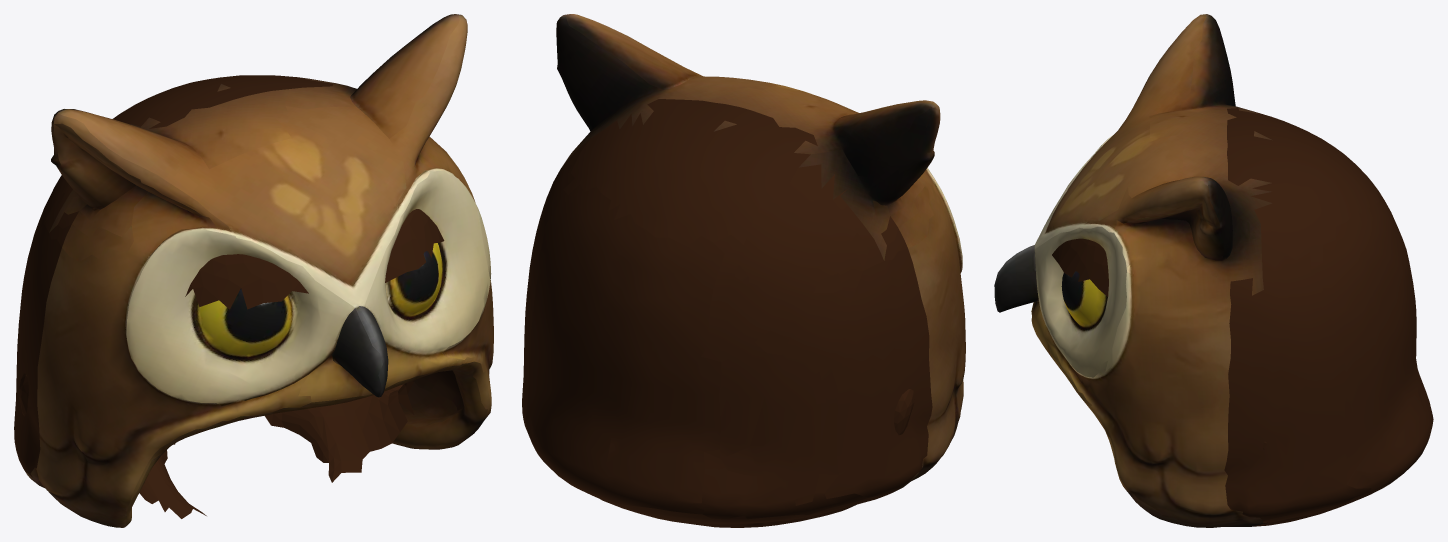
The model's file is owl.glb.
The picture shows the model from 3 angles, left to right: view 1: azimuth 30°, elevation 25°; view 2: azimuth 150°, elevation 25°; view 3: azimuth 270°, elevation 25°; orthographic projection. The views are drawn at different scales.
Visible parts, largest first — view 1: geometry_0, HoodAnatomicalLining; view 2: geometry_0, HoodAnatomicalLining; view 3: geometry_0, HoodAnatomicalLining.
Part boxes in pixels (x1,y1,x2,y2): geometry_0: [14, 14, 493, 527]; HoodAnatomicalLining: [18, 209, 444, 518]; geometry_0: [522, 14, 965, 527]; HoodAnatomicalLining: [894, 389, 914, 434]; geometry_0: [994, 14, 1433, 527]; HoodAnatomicalLining: [1052, 238, 1266, 449].
Bounding box in the file's own units: 0.4834 × 0.4697 × 0.5024.
Materials: 2 (1 with a texture image).
